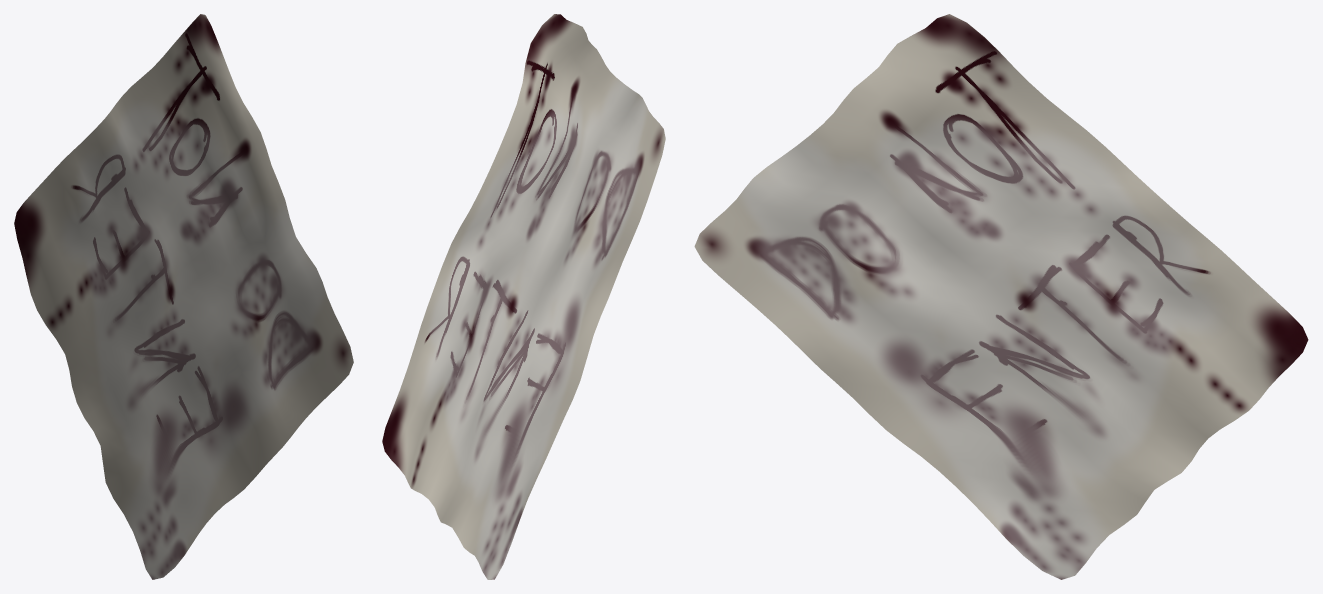
File: warning paper.fbx
3 renders of one model, left to right at view 1: azimuth 30°, elevation 25°; view 2: azimuth 150°, elevation 25°; view 3: azimuth 270°, elevation 25°, orthographic. The views are drawn at different scales.
Parts seen in each view (by area): view 1: Plane; view 2: Plane; view 3: Plane.
Boxes of the visible parts, x1,y1,x2,y2 form: Plane: (14,14,353,579); Plane: (382,14,665,579); Plane: (694,14,1308,579).
Bounding box in the file's own units: 6.68 × 232 × 234.
